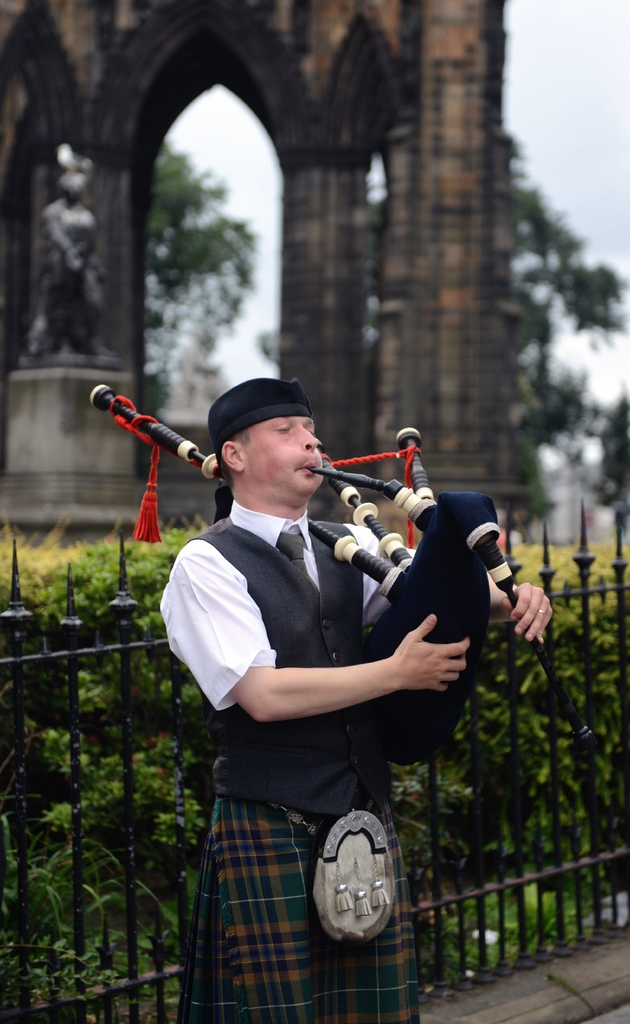Person: (157, 376, 553, 1024)
